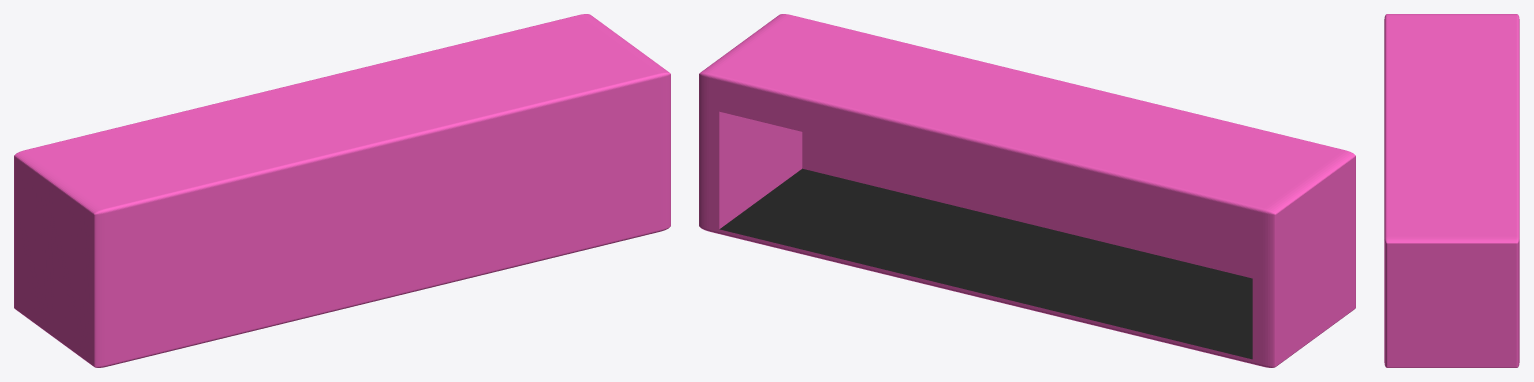
File: Cupcake Tray Sort - Oven.fbx
3 views of the same model, side by side, from view 1: azimuth 30°, elevation 25°; view 2: azimuth 150°, elevation 25°; view 3: azimuth 270°, elevation 25° (orthographic). The views are drawn at different scales.
Parts seen in each view (by area): view 1: oven; view 2: oven; view 3: oven.
Boxes of the visible parts, bbox=[...] form: oven: bbox=[14, 14, 670, 367]; oven: bbox=[699, 14, 1355, 367]; oven: bbox=[1384, 14, 1519, 367].
Bounding box in the file's own units: 0.0982 × 0.0245 × 0.0257.
